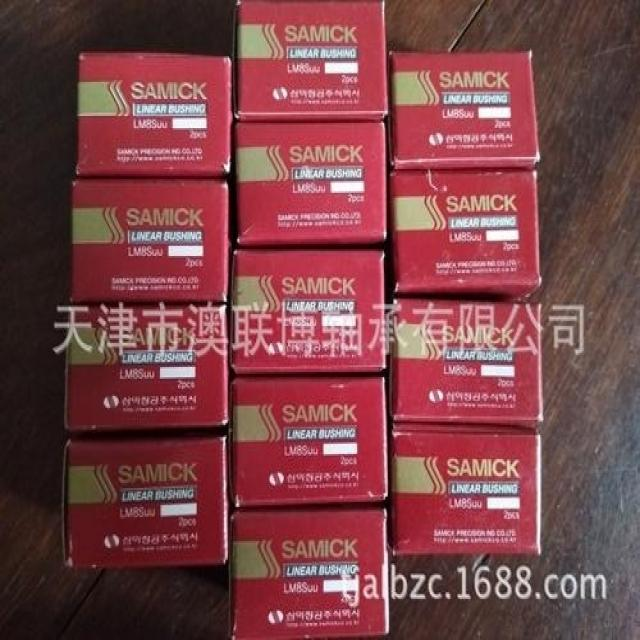box: (65, 431, 227, 566), (230, 376, 386, 509), (67, 305, 229, 433), (229, 509, 387, 638), (386, 426, 541, 557), (388, 171, 540, 302), (72, 177, 229, 302), (232, 121, 387, 247), (230, 250, 386, 374), (75, 54, 232, 177), (388, 300, 542, 425), (232, 3, 385, 120), (389, 51, 536, 171)
